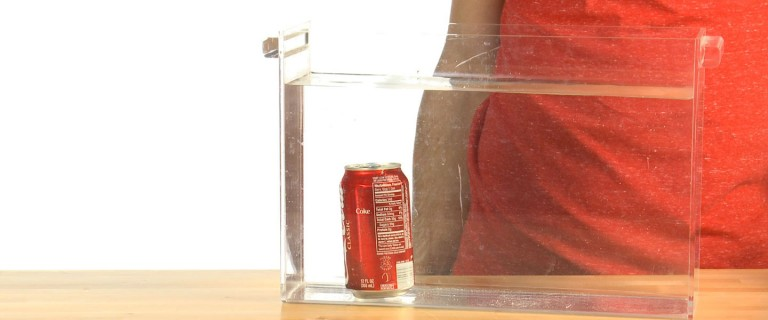can: (337, 161, 417, 302)
